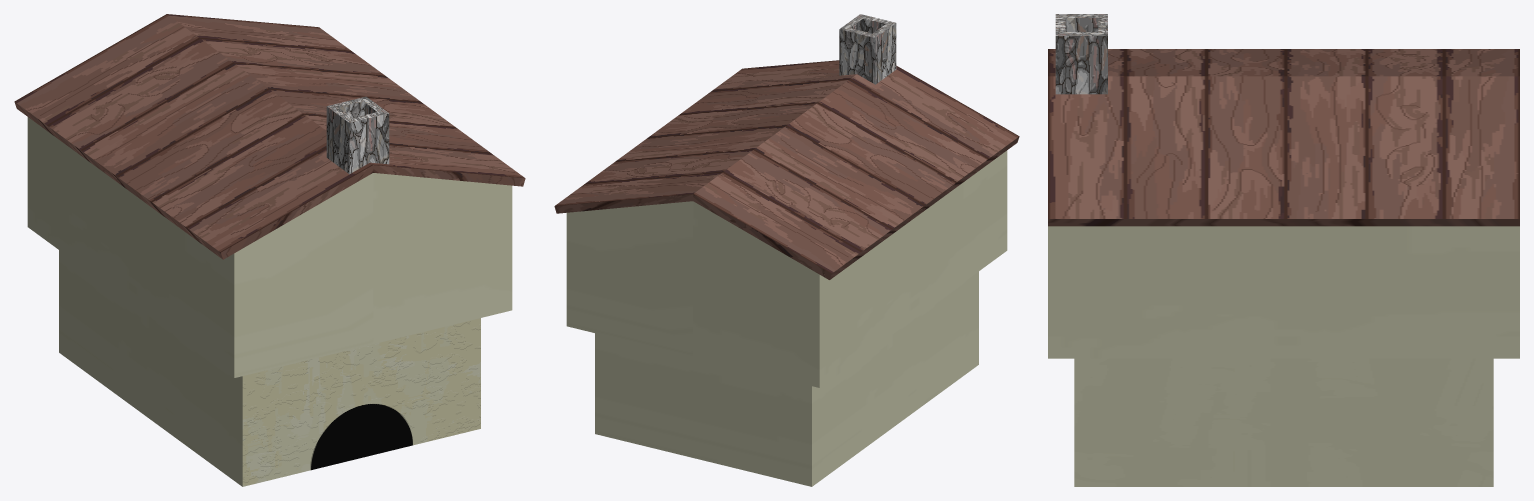
The model's file is nice_house.fbx.
3 renders of one model, left to right at view 1: azimuth 30°, elevation 25°; view 2: azimuth 150°, elevation 25°; view 3: azimuth 270°, elevation 25°, orthographic. The views are drawn at different scales.
Visible parts, largest first — view 1: NiceHouse; view 2: NiceHouse; view 3: NiceHouse.
Part boxes in pixels (x1=…): NiceHouse: x1=14, y1=14, x2=525, y2=486; NiceHouse: x1=554, y1=14, x2=1019, y2=486; NiceHouse: x1=1048, y1=14, x2=1519, y2=486.
Bounding box in the file's own units: 767 × 832 × 900.
